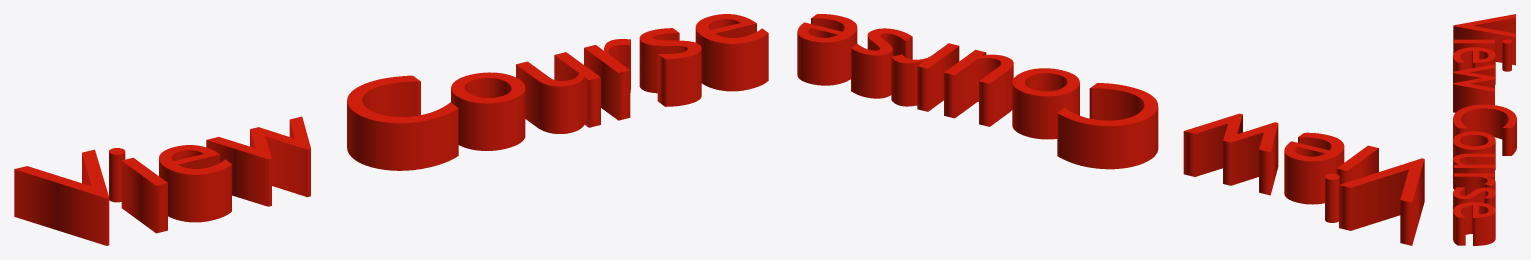
The model's file is ViewCourse.fbx.
The picture shows the model from 3 angles, left to right: view 1: azimuth 30°, elevation 25°; view 2: azimuth 150°, elevation 25°; view 3: azimuth 270°, elevation 25°; orthographic projection. The views are drawn at different scales.
Parts seen in each view (by area): view 1: Text; view 2: Text; view 3: Text.
Part boxes in pixels (x1,y1,x2,y2): Text: (14, 14, 768, 245); Text: (797, 14, 1424, 245); Text: (1453, 14, 1516, 245).
Bounding box in the file's own units: 529 × 34 × 70.
